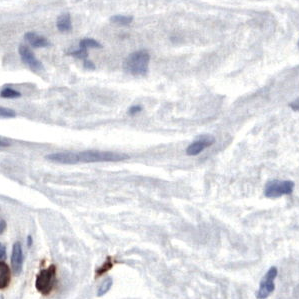Lymphocyte: (34, 265, 57, 294)
